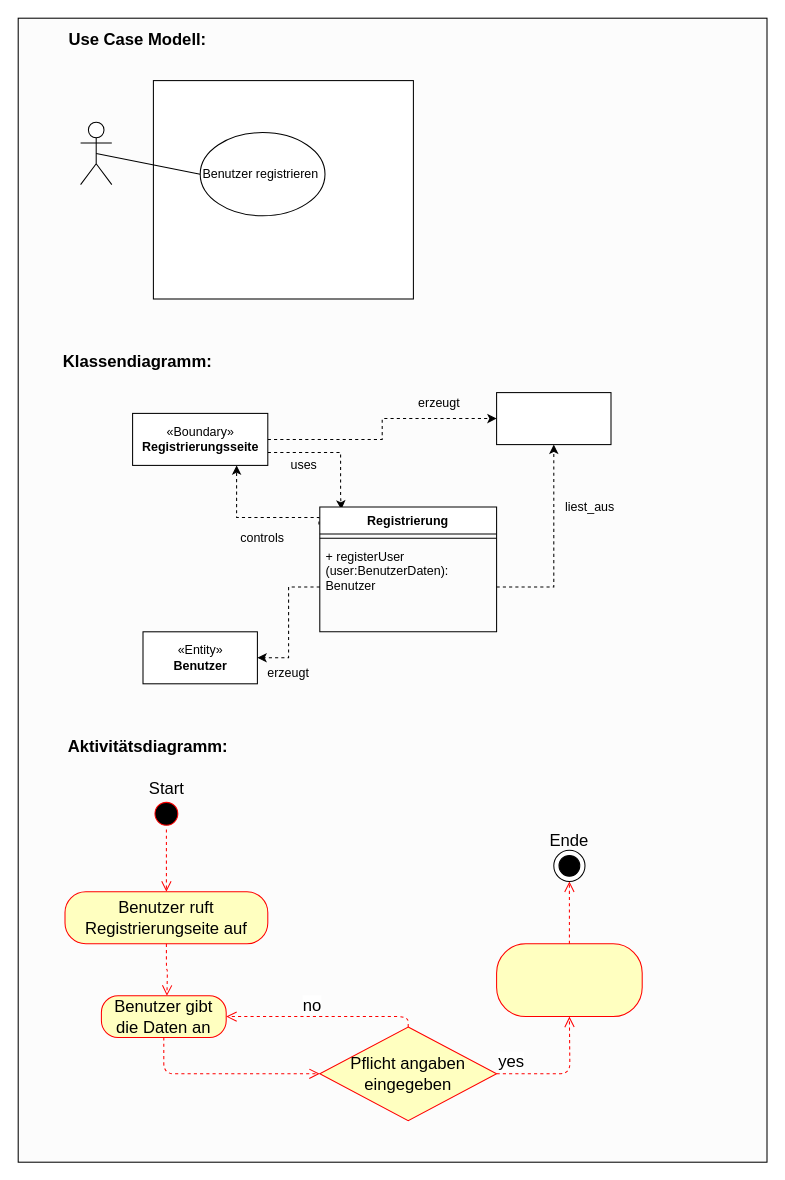
This 785x1180 diagram has some shape labels left out. Here are the shapes that lost their labels. From the top down, the centre of each, then its label:
At [96,153]: "Benutzer".
At [553,418]: "«DTO» Benutzerdaten".
At [569,980]: "Benutzerdaten Persistent speichern".
